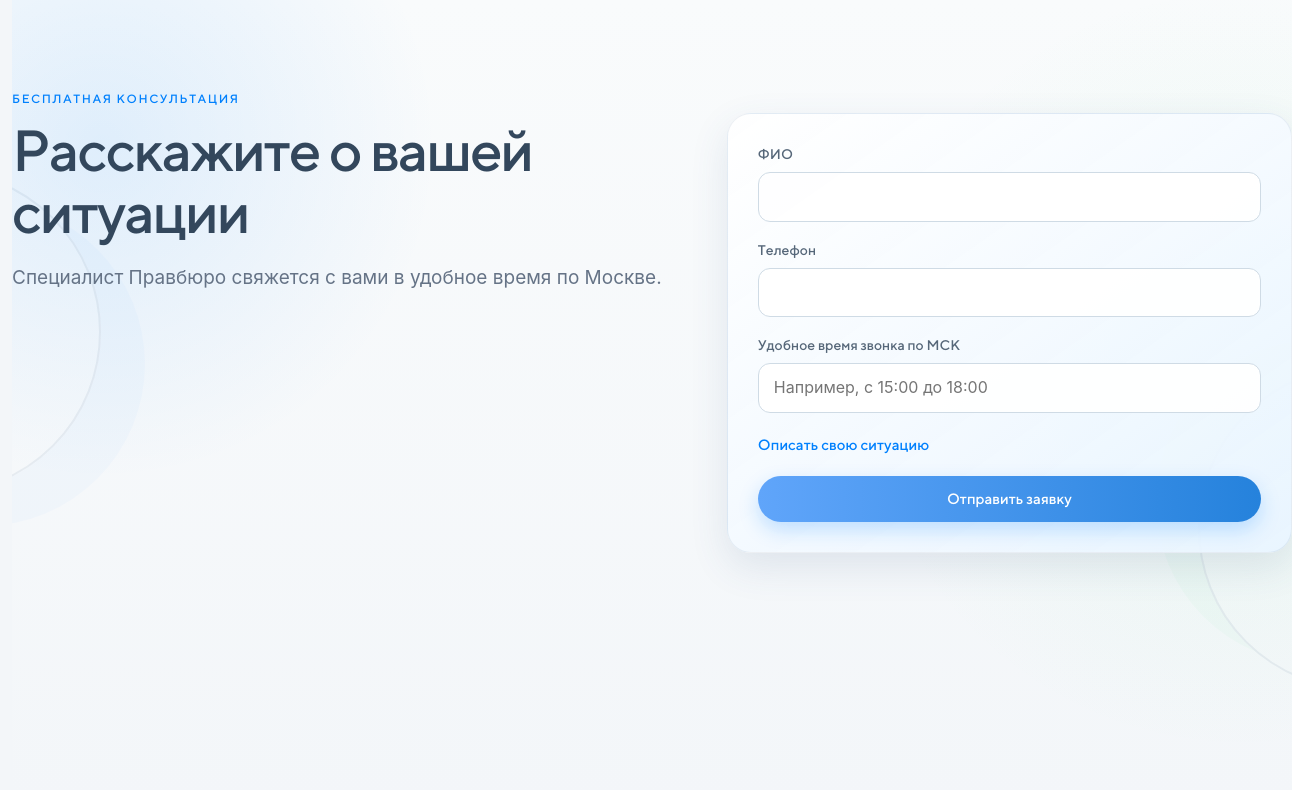
Test: referral form › sends the application and shows the thank-you page
In the field labelled "ФИО": (1009, 197) left=758, top=172, right=1261, bottom=222, type "Иван Иванов"
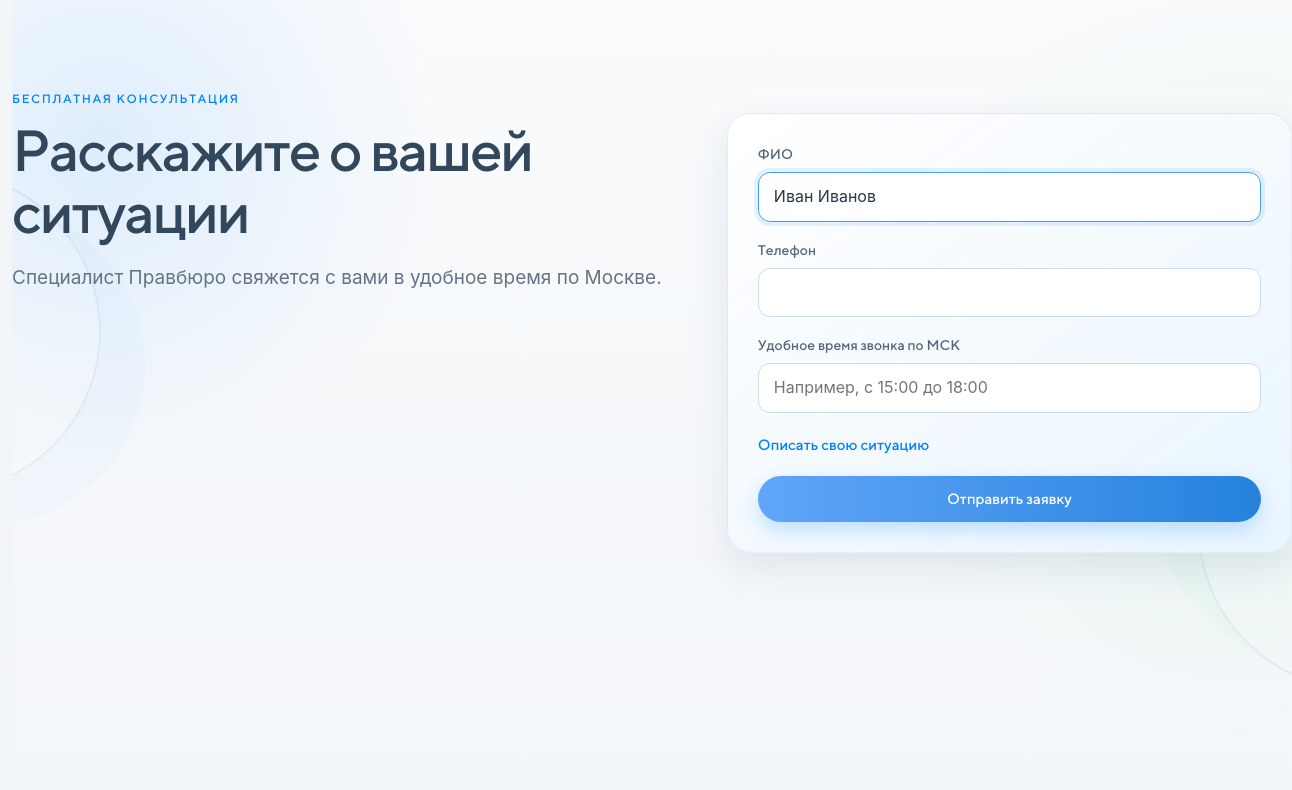
In the field labelled "Телефон": (1009, 292) left=758, top=268, right=1261, bottom=317, type "+79991234567"
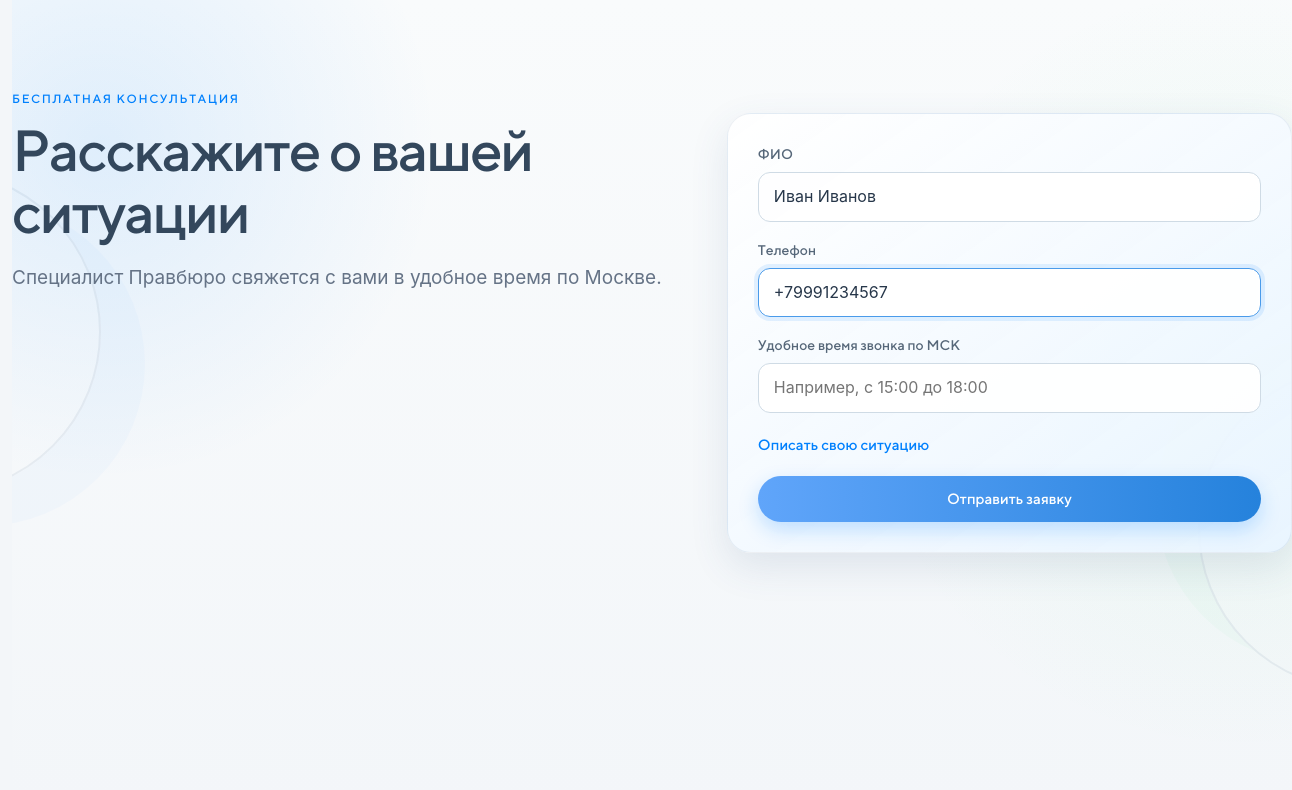
Click the button "Описать свою ситуацию": (844, 444) left=758, top=431, right=929, bottom=458
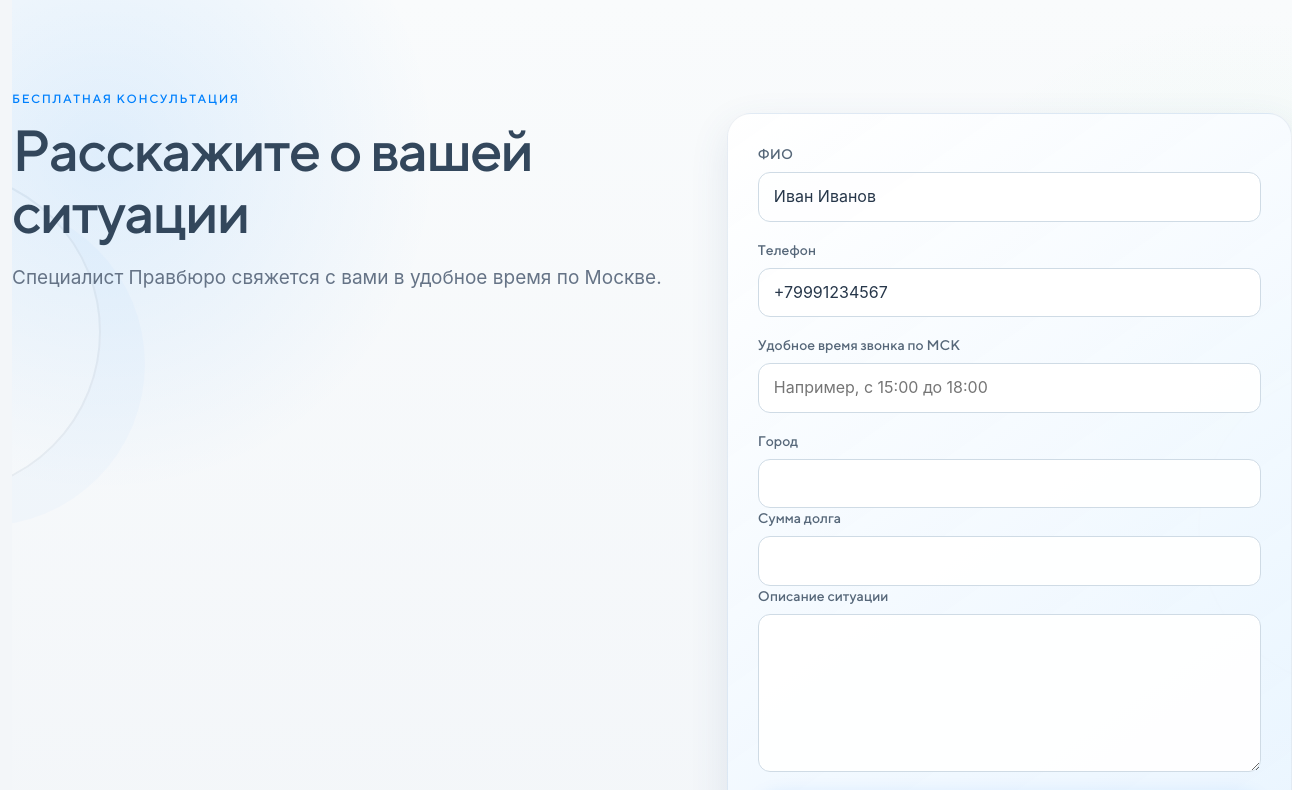
In the field labelled "Город": (1009, 484) left=758, top=459, right=1261, bottom=508, type "Казань"
(page scrolled)
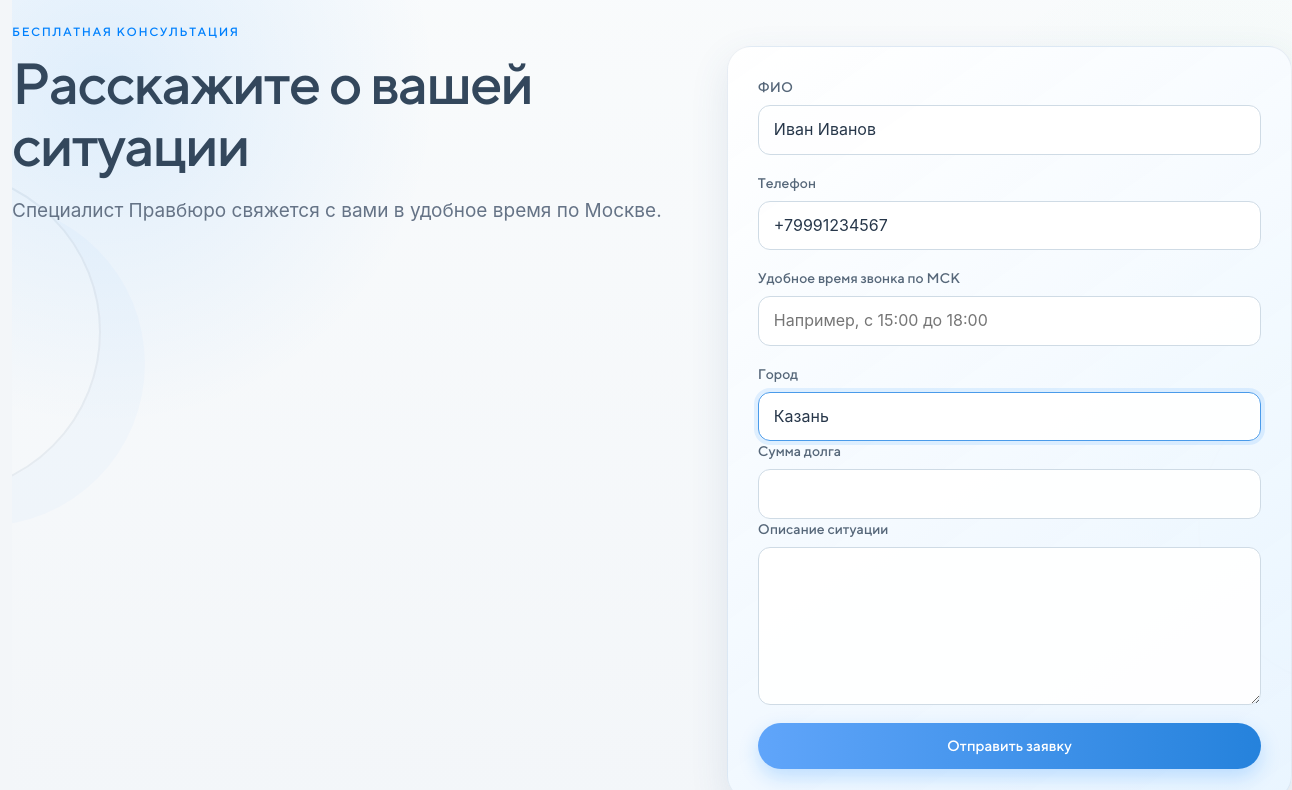
Click the button "Отправить заявку": (1009, 746) left=758, top=722, right=1261, bottom=768
(page scrolled)
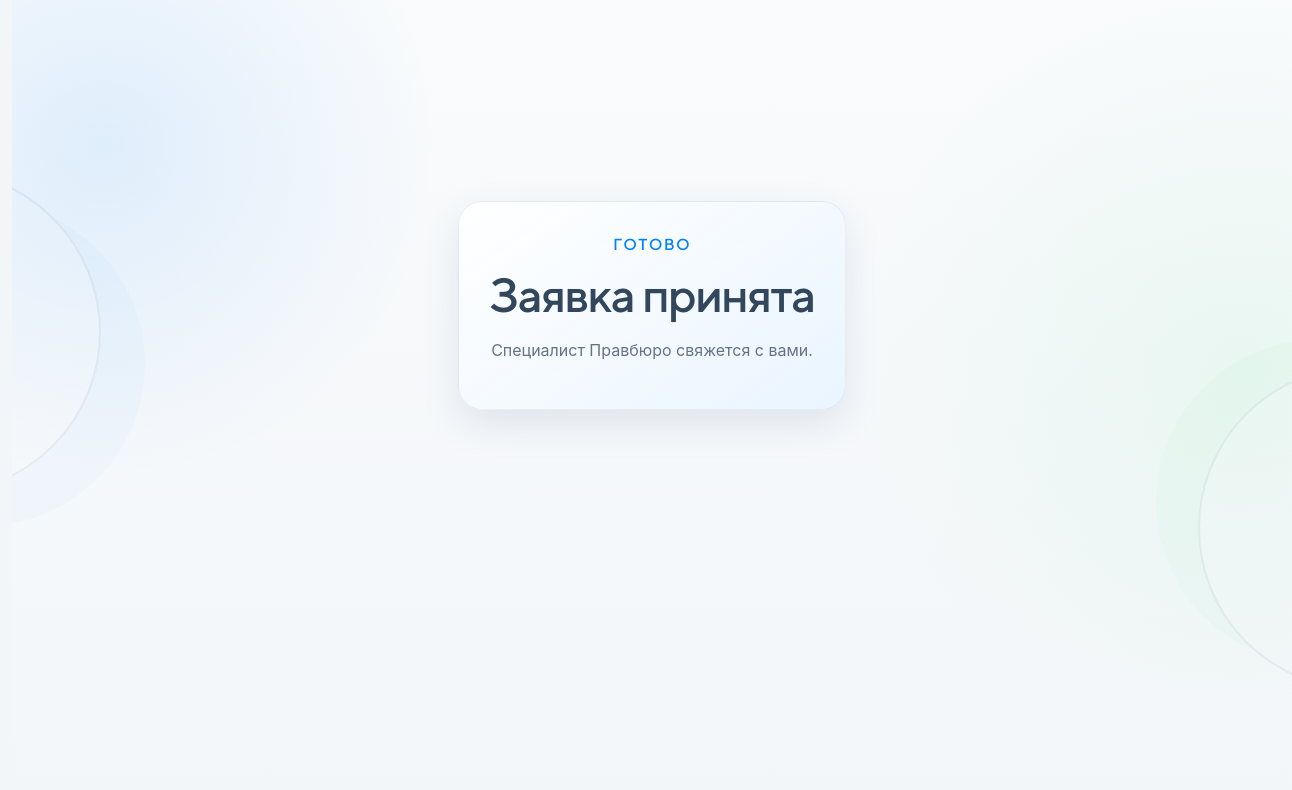
Expected: the heading "Заявка принята" is shown, left=489, top=269, right=815, bottom=321
